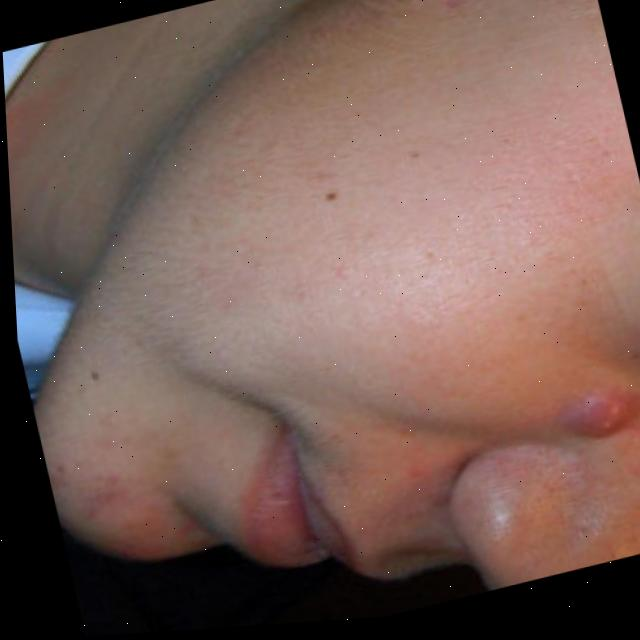Acne: (555, 383, 640, 462)
